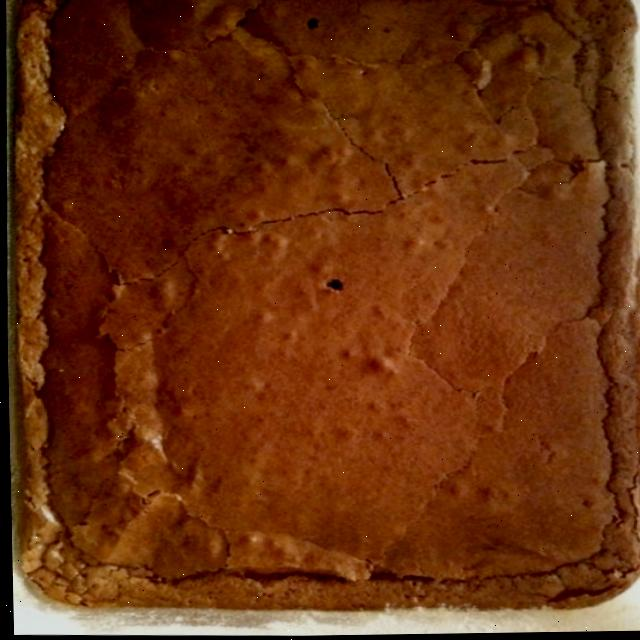蛋糕甜品: (5, 0, 635, 619)
